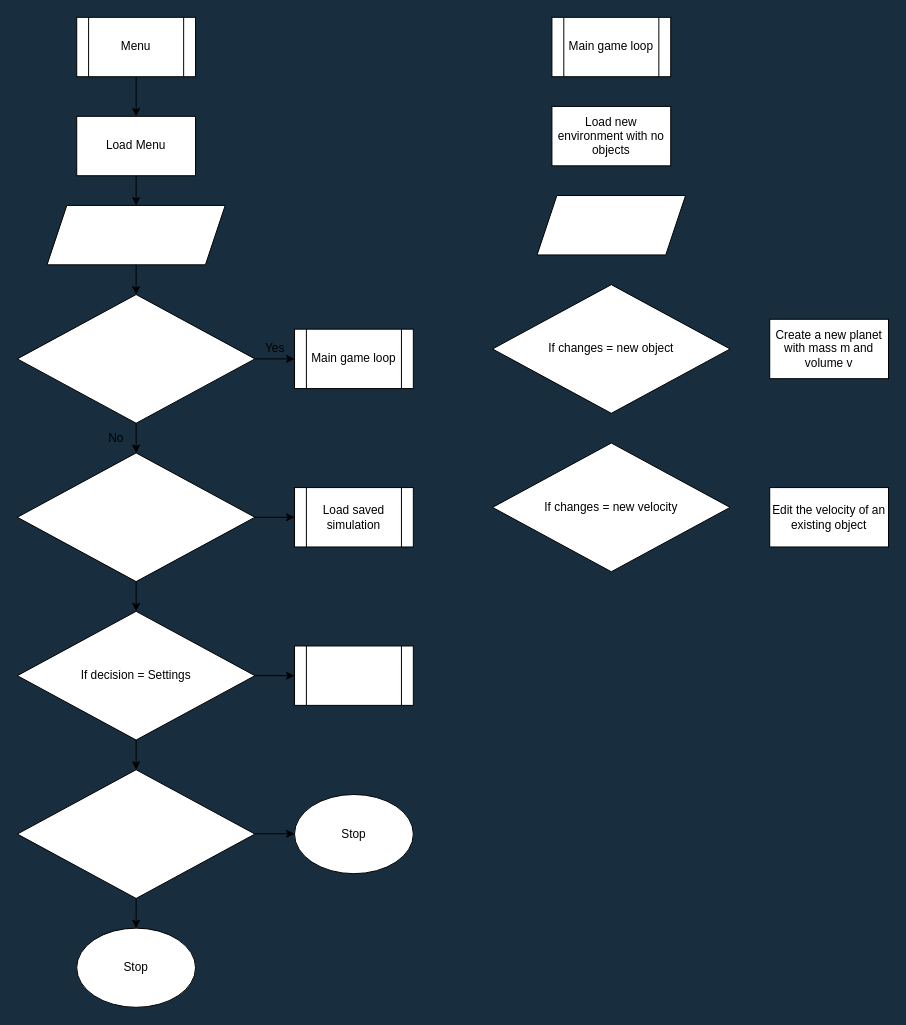
Image size: 906x1025. Some labels were removed from this diagram. Each missing label, with the centre of its shape:
changes = check for changes made by the user to the parameters: point 611,225
decision = user input for which menu to enter: point 135,234
If decision = Exit: point 135,833
If decision = Load new simulation: point 135,517
If decision = Start new simulation: point 135,358
Settings: point 353,675
